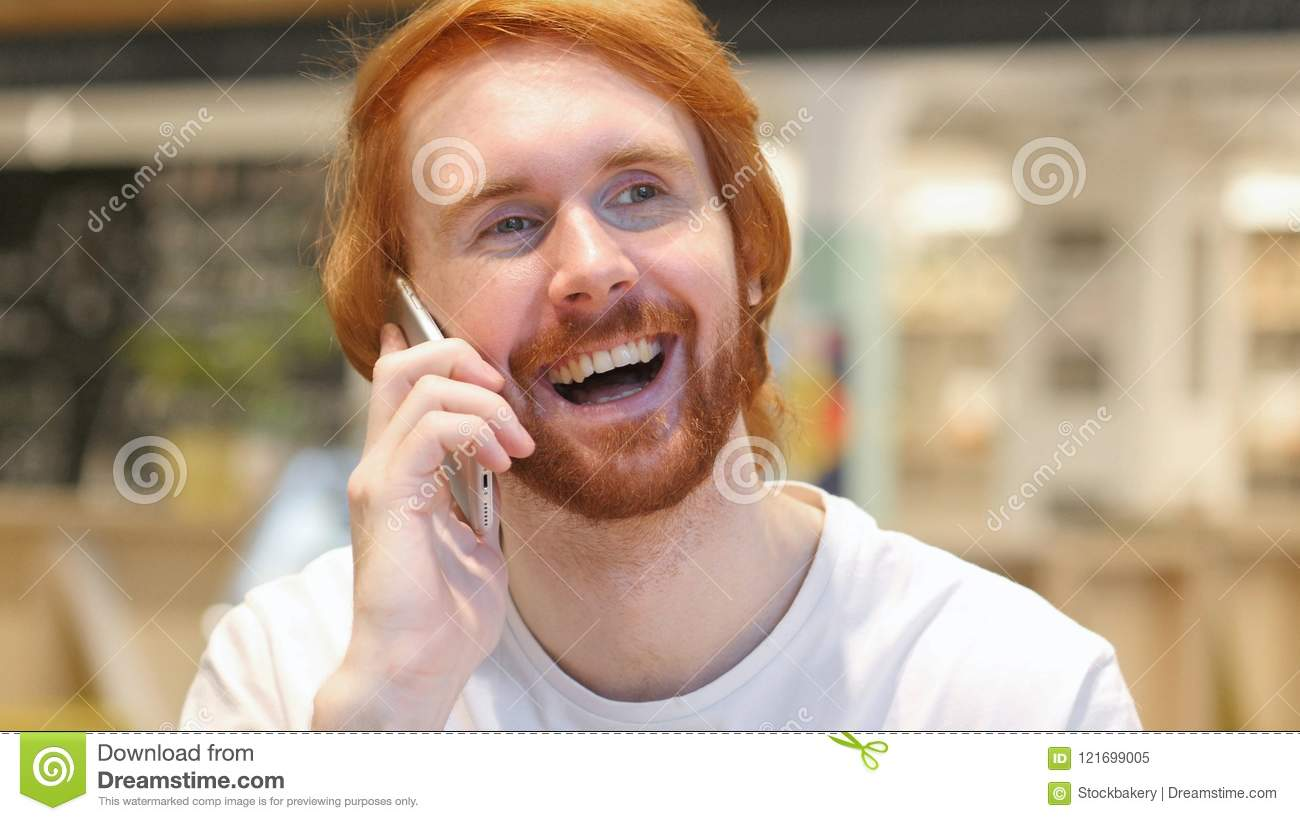phone: (384, 269, 505, 542)
talk: (349, 131, 728, 687)
